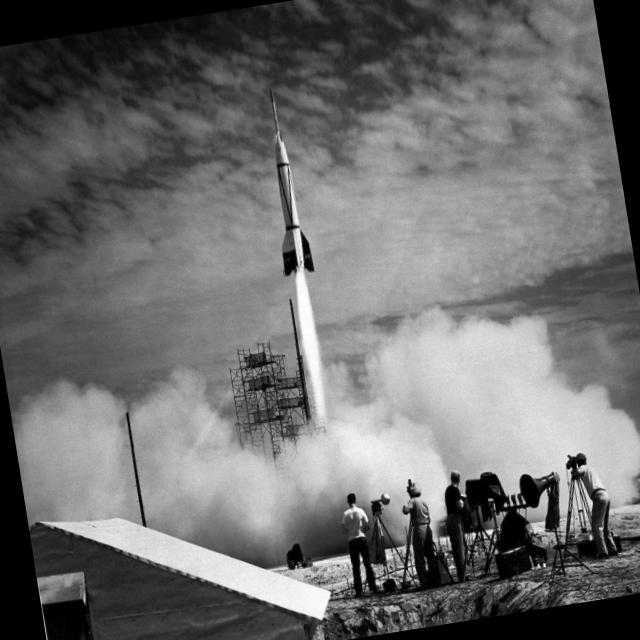rocket: (250, 83, 341, 426)
